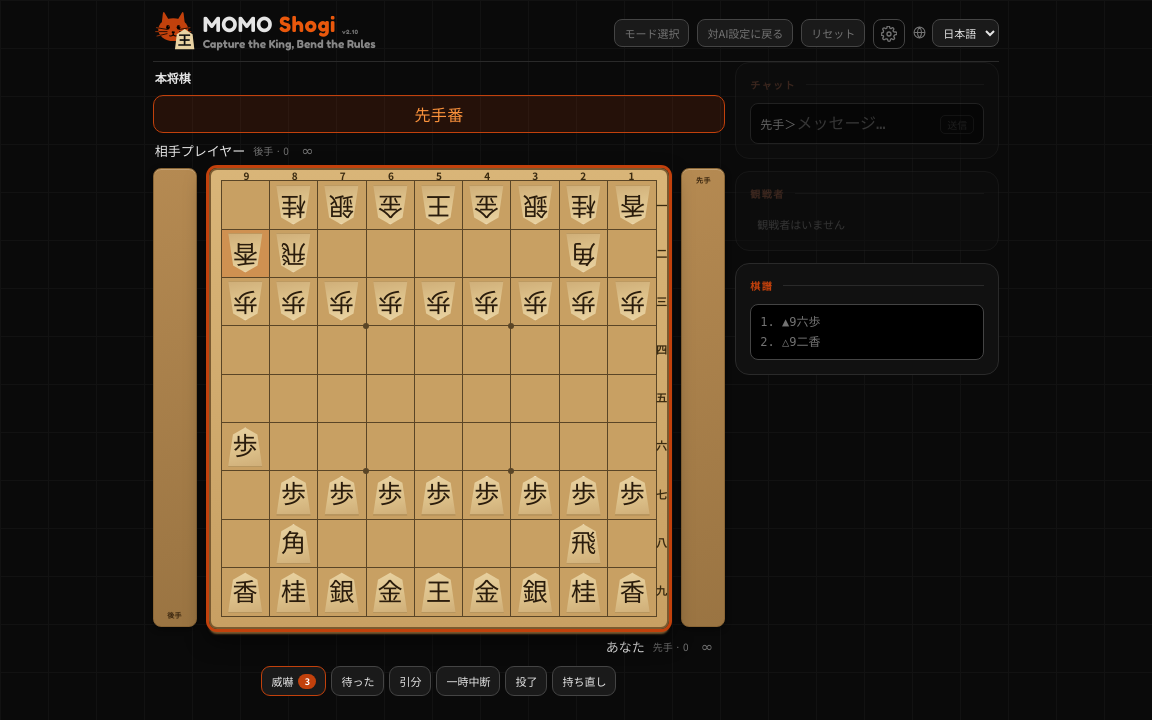
Test case: 対 AI の待った › 初手まで戻ったらそれ以上は押せない（戻しすぎない）
Click the button "待った" at [358, 681], box [332,666,384,696]
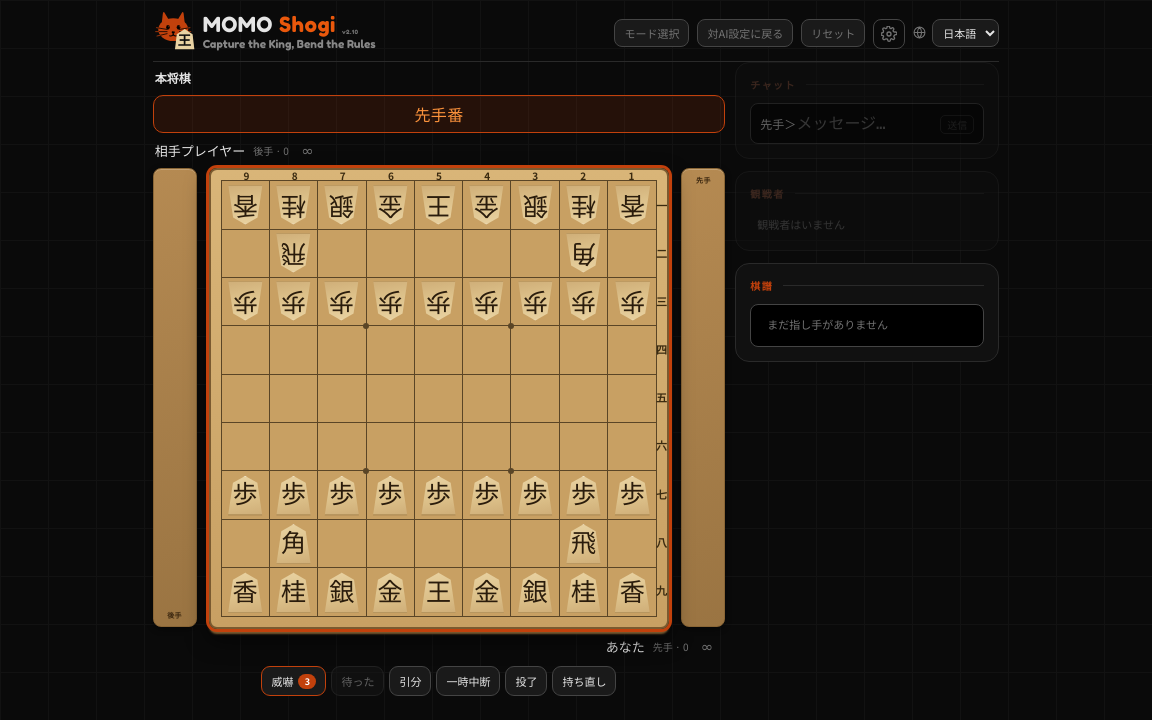
Expected: the button "待った" is disabled, [332,666,384,696]
